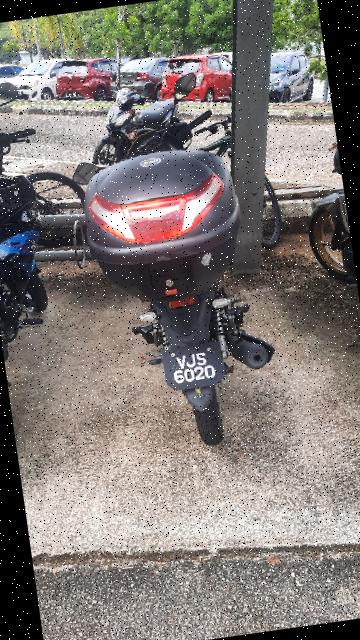License_Plate: (158, 336, 227, 394)
motorcycle: (59, 61, 307, 460)
